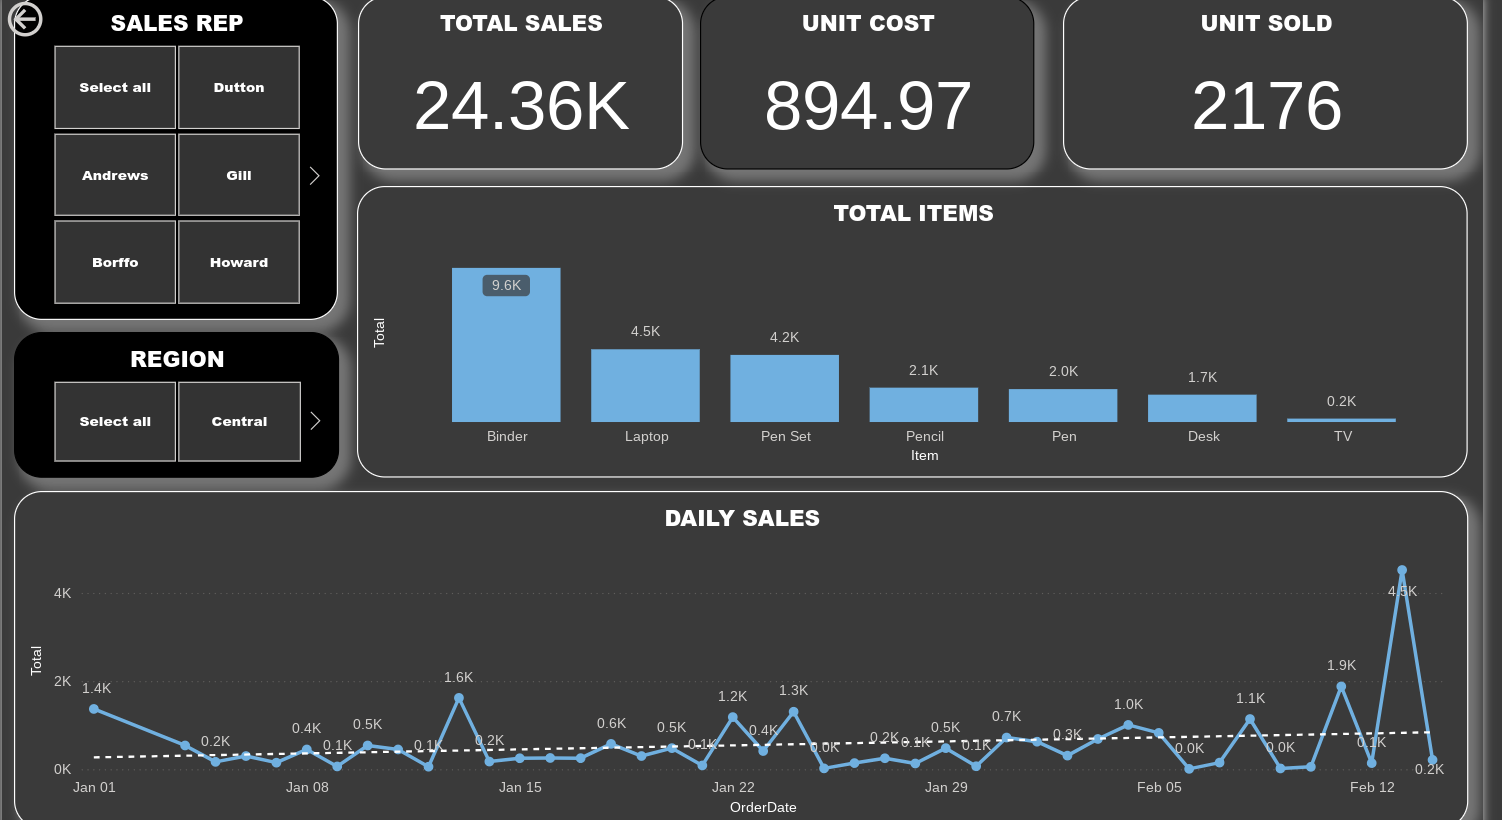

The page's visual inventory and layout, read from the dashboard file:
{"tool":"powerbi","page":{"name":"Page 1","canvas":[1280,720],"ordinal":0},"visuals":[{"type":"slicer","title":"SALES REP","fields":{"Values":["Table.Rep"]},"box":[10,0,280,280],"z":0},{"type":"actionButton","box":[0,0,100,40],"z":1},{"type":"slicer","title":"REGION","fields":{"Values":["Table.Region"]},"box":[10.1,290.6,280.5,126],"z":2},{"type":"card","title":"TOTAL SALES","fields":{"Values":["Table.Total"]},"box":[307.4,0,280.5,149.5],"z":3},{"type":"lineChart","title":"DAILY SALES","fields":{"Category":["Table.OrderDate"],"Y":["Table.Total"]},"box":[10.1,427.7,1257.1,292.3],"z":4},{"type":"lineStackedColumnComboChart","title":"TOTAL ITEMS","fields":{"Category":["Table.Item"],"Y":["Table.Total"]},"box":[306.7,164.2,960.5,252],"z":5},{"type":"card","title":"UNIT COST","fields":{"Values":["Table.Unit Cost"]},"box":[603,0,288.9,149.5],"z":6},{"type":"card","title":"UNIT SOLD","fields":{"Values":["Table.Units"]},"box":[917.3,0,349.9,149.8],"z":7}]}

Visuals, with their boxes in screenshot pixels (x1, y1, x2, y2):
"SALES REP" slicer: rect(8, 0, 334, 315)
actionButton: rect(0, 0, 113, 35)
"REGION" slicer: rect(8, 327, 335, 474)
"TOTAL SALES" card: rect(355, 0, 682, 163)
"DAILY SALES" lineChart: rect(8, 487, 1474, 819)
"TOTAL ITEMS" lineStackedColumnComboChart: rect(354, 180, 1474, 474)
"UNIT COST" card: rect(699, 0, 1036, 163)
"UNIT SOLD" card: rect(1066, 0, 1474, 163)
